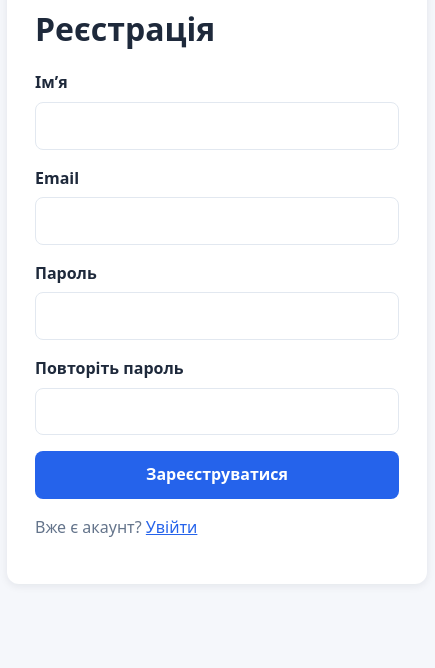
Test: RegisterPage › показує помилку, якщо паролі не збігаються
Type "Іван" into the field labelled "Імʼя" at [217, 126], box [35,102,399,150]
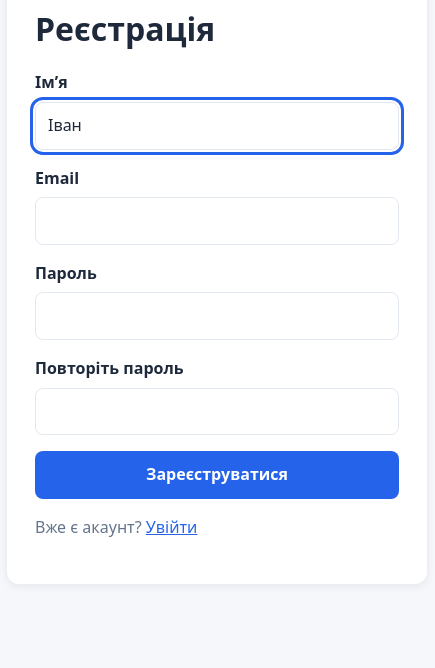
Type "ivan@test.ua" into the field labelled "Email" at [217, 221], box [35,197,399,245]
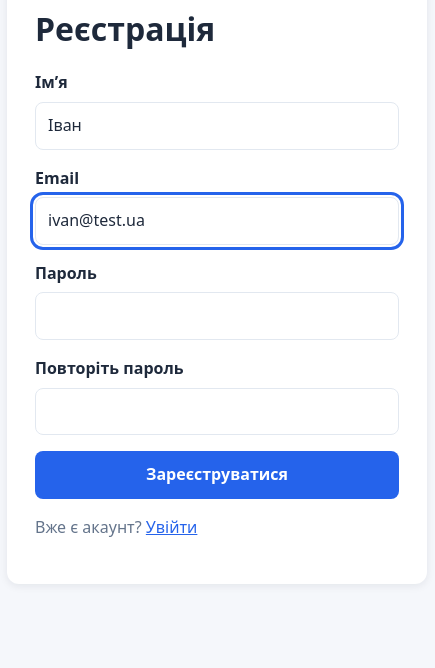
Type "123456" into the password field labelled "Пароль" at [217, 316], box [35,292,399,340]
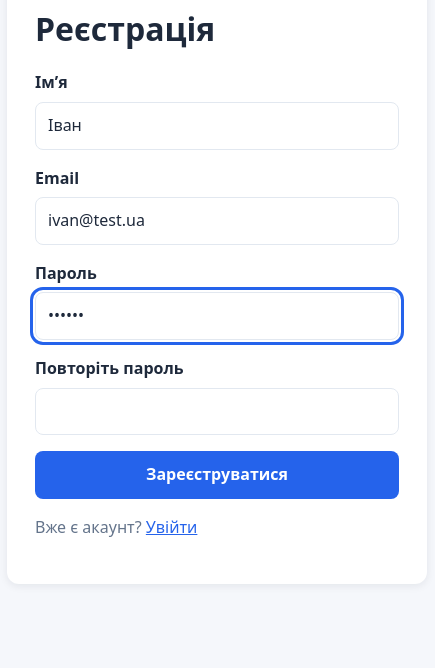
Type "654321" into the password field labelled "Повторіть пароль" at [217, 411], box [35,388,399,435]
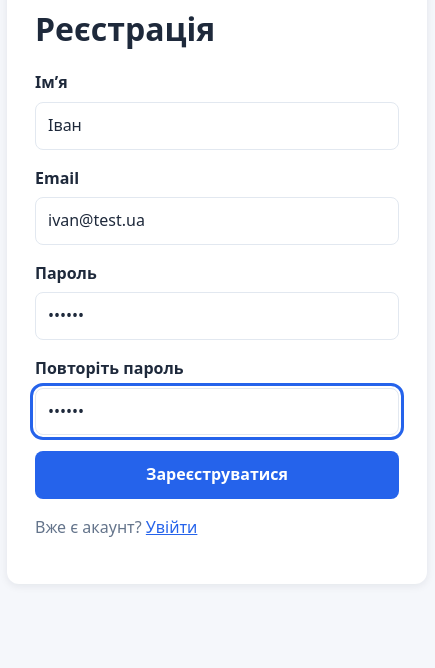
Click the button "Зареєструватися" at [217, 475], box [35,451,399,499]
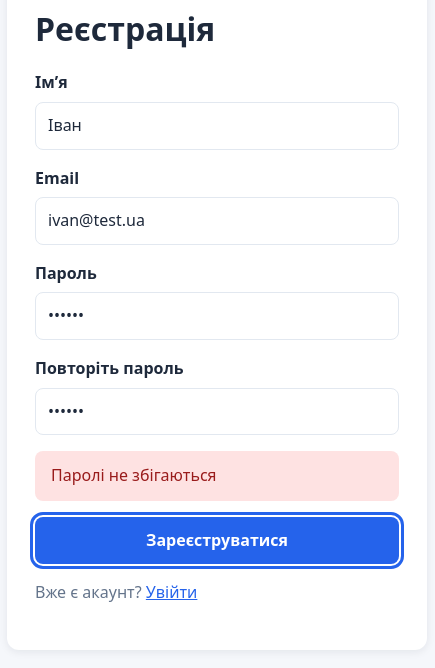
Check: the message reads "Паролі не збігаються", box [51,464,216,486]
